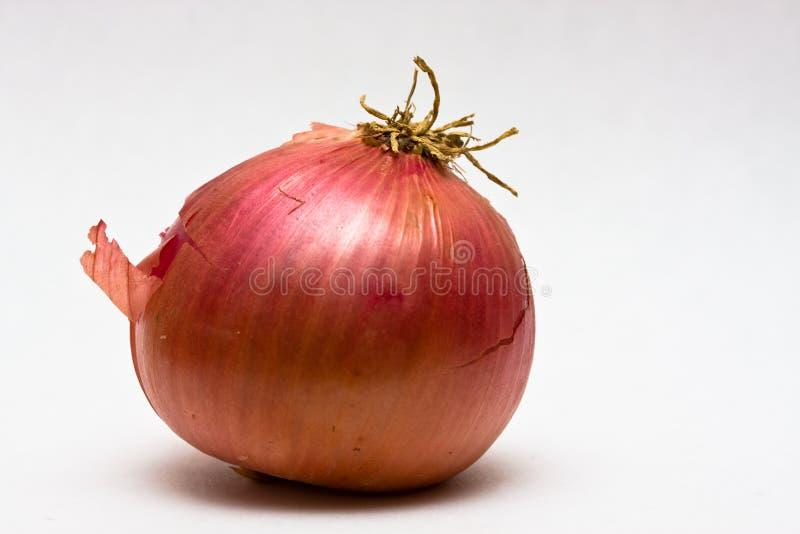Onion: (81, 126, 534, 490)
